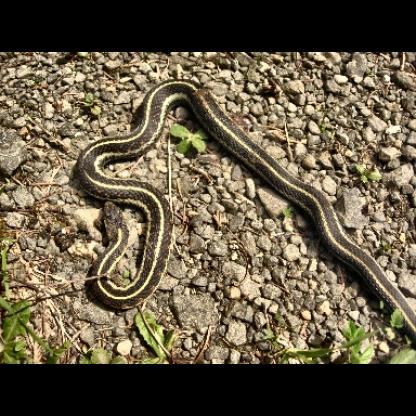Snake: (76, 82, 402, 313)
